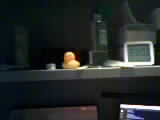duck: (60, 47, 80, 71)
